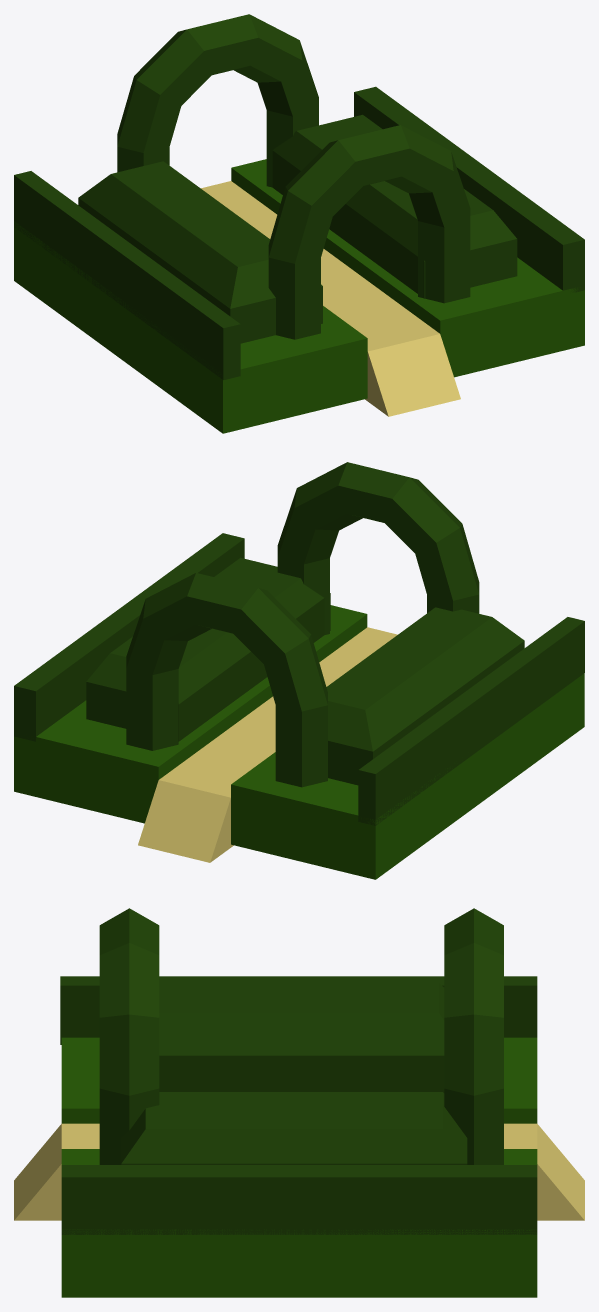
The model's file is garden_straight.fbx.
3 views of the same model, one above another, from view 1: azimuth 30°, elevation 25°; view 2: azimuth 150°, elevation 25°; view 3: azimuth 270°, elevation 25° (orthographic). The views are drawn at different scales.
Visible parts, largest first — view 1: polySurface518; view 2: polySurface518; view 3: polySurface518.
Part boxes in pixels (<box>): polySurface518: <box>14,14,584,433</box>; polySurface518: <box>14,462,584,879</box>; polySurface518: <box>14,908,584,1297</box>.
Bounding box in the file's own units: 100 × 63.22 × 120.
Materials: 1 (1 with a texture image).
